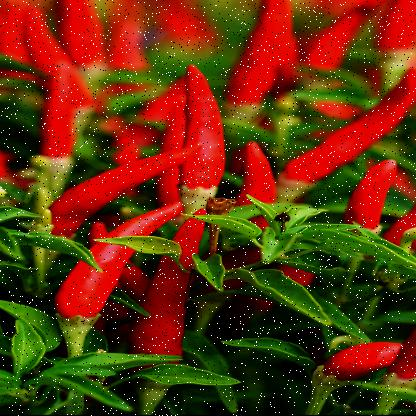chili: (33, 197, 197, 356), (174, 53, 236, 216), (301, 319, 416, 404), (320, 149, 416, 239)
